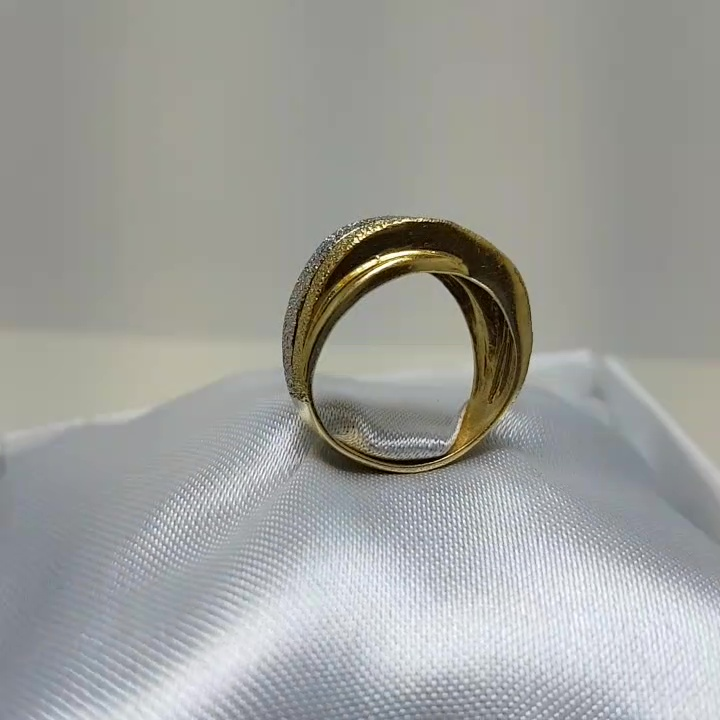Ring 5: (262, 207, 538, 483)
